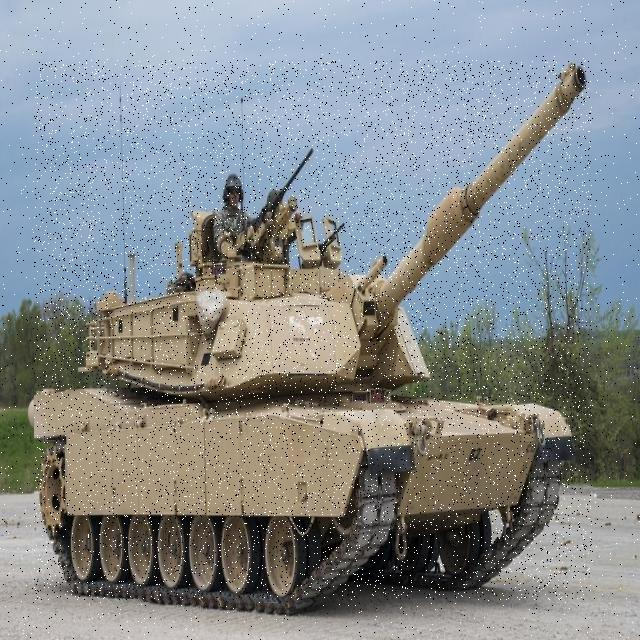MIL_MBT: (35, 61, 592, 600)
